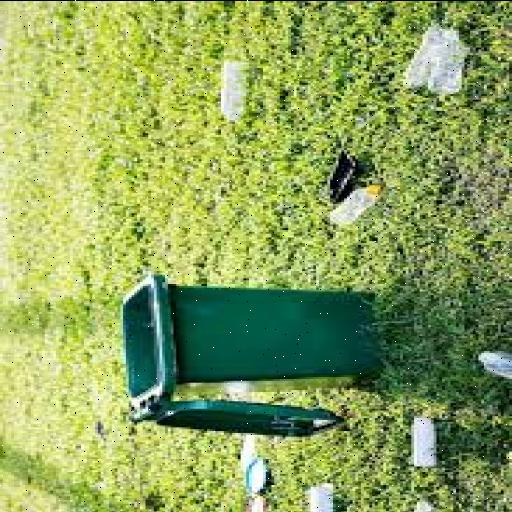poubelle_vide: (98, 261, 404, 441)
